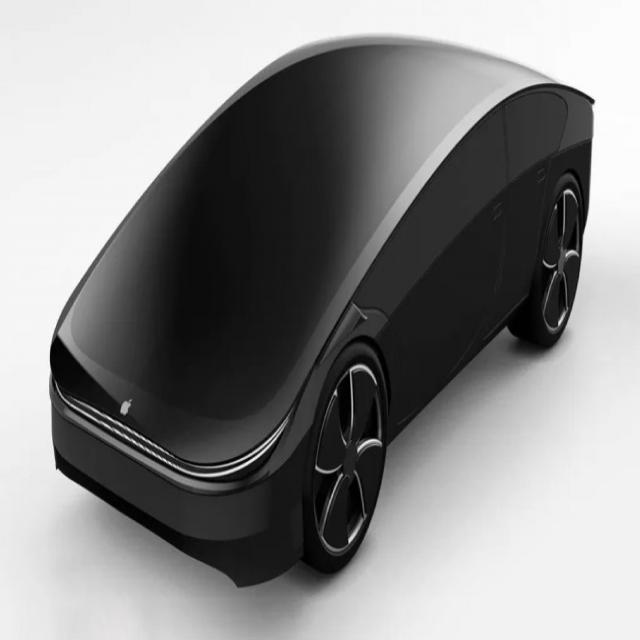car: (42, 19, 604, 596)
